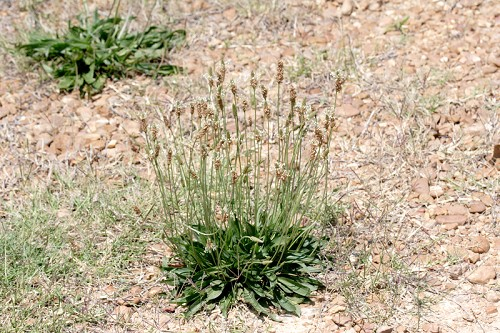buckhorn plantain: (107, 55, 342, 319)
